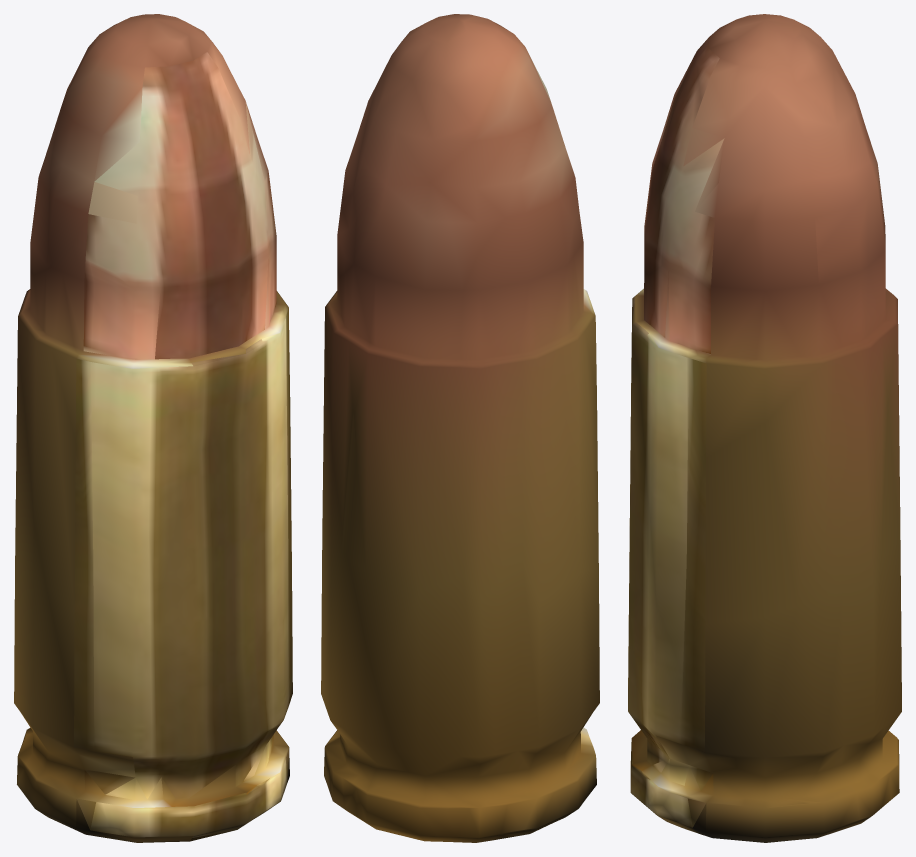
File: bullet.glb
3 renders of one model, left to right at view 1: azimuth 30°, elevation 25°; view 2: azimuth 150°, elevation 25°; view 3: azimuth 270°, elevation 25°, orthographic.
Parts seen in each view (by area): view 1: Mesh_0; view 2: Mesh_0; view 3: Mesh_0.
Part boxes in pixels (left/top/right/bottom): Mesh_0: left=14, top=14, right=292, bottom=842; Mesh_0: left=321, top=14, right=599, bottom=842; Mesh_0: left=628, top=14, right=901, bottom=842.
Bounding box in the file's own units: 0.6233 × 1.9 × 0.6121.
Materials: 1 (1 with a texture image).
